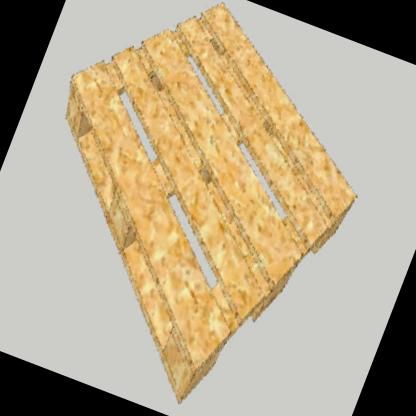BoxFace: (59, 0, 359, 410)
